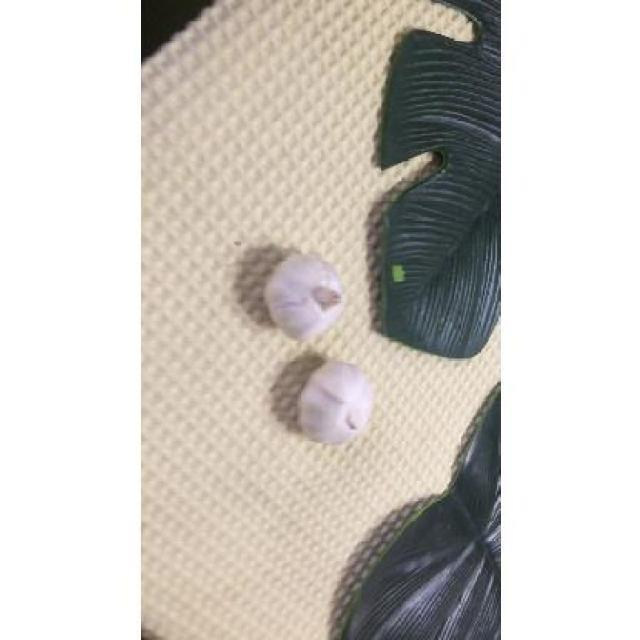garlic: (264, 255, 342, 339), (298, 360, 374, 443)
